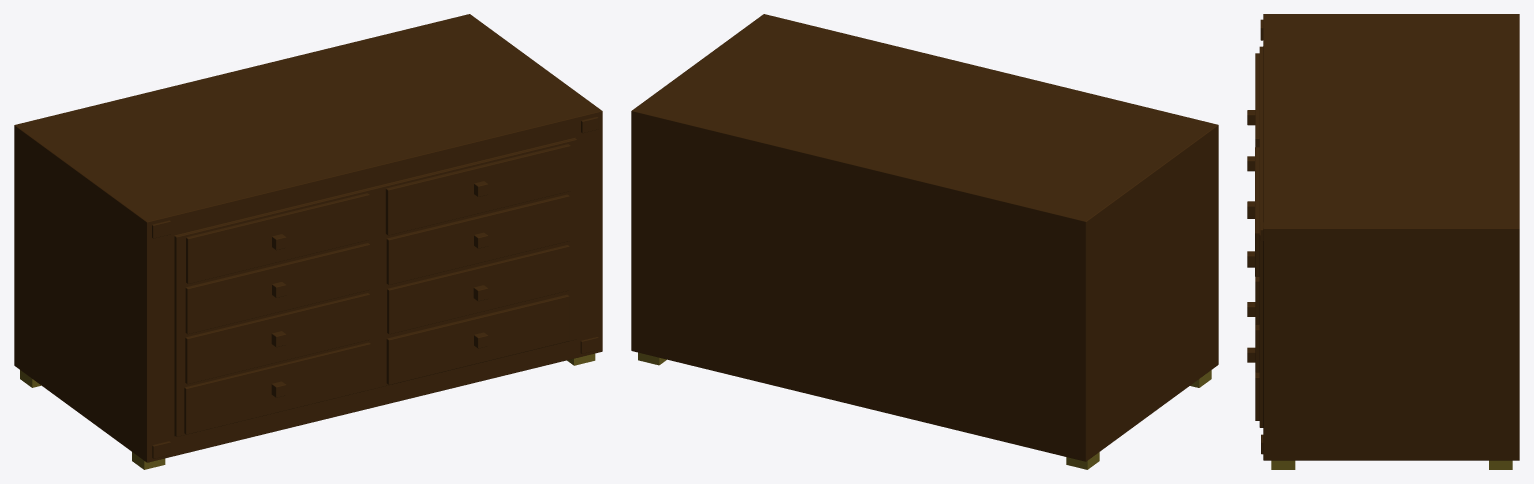
The model's file is stand.fbx.
3 views of the same model, side by side, from view 1: azimuth 30°, elevation 25°; view 2: azimuth 150°, elevation 25°; view 3: azimuth 270°, elevation 25° (orthographic). The views are drawn at different scales.
Visible parts, largest first — view 1: Cube, Cube.001; view 2: Cube, Cube.001; view 3: Cube, Cube.001.
Boxes of the visible parts, left/top/right/bottom form: Cube: left=14, top=14, right=602, bottom=462; Cube.001: left=20, top=353, right=595, bottom=469; Cube: left=631, top=14, right=1218, bottom=461; Cube.001: left=638, top=352, right=1211, bottom=469; Cube: left=1247, top=14, right=1519, bottom=460; Cube.001: left=1271, top=460, right=1512, bottom=469.
Bounding box in the file's own units: 396 × 209 × 213.
